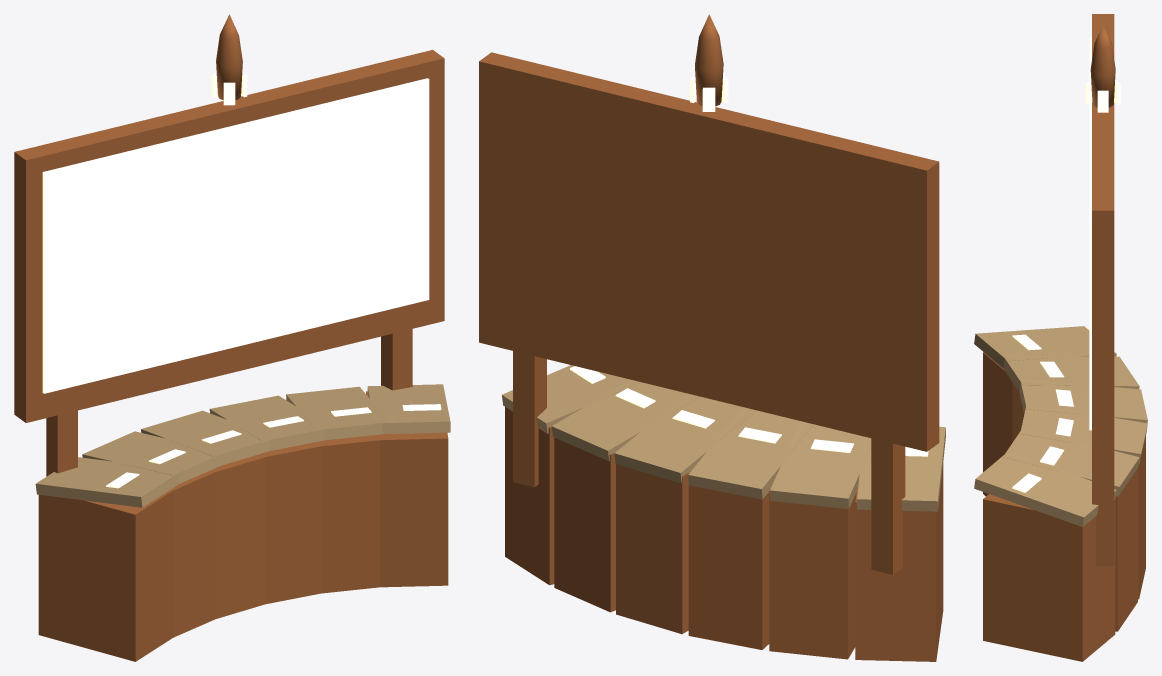
File: trajectory_console.glb
3 views of the same model, side by side, from view 1: azimuth 30°, elevation 25°; view 2: azimuth 150°, elevation 25°; view 3: azimuth 270°, elevation 25° (orthographic). The views are drawn at different scales.
Parts seen in each view (by area): view 1: trajectory_console metal, trajectory_console screen, trajectory_console stone, trajectory_console lamp; view 2: trajectory_console metal, trajectory_console stone, trajectory_console lamp; view 3: trajectory_console metal, trajectory_console stone, trajectory_console lamp, trajectory_console screen.
Part boxes in pixels (x1,y1,x2,y2): trajectory_console metal: (14, 14, 448, 661); trajectory_console screen: (42, 78, 429, 393); trajectory_console stone: (35, 384, 450, 507); trajectory_console lamp: (106, 72, 441, 488); trajectory_console metal: (479, 14, 943, 661); trajectory_console stone: (502, 365, 945, 511); trajectory_console lamp: (570, 76, 928, 456); trajectory_console metal: (983, 14, 1145, 661); trajectory_console stone: (974, 326, 1147, 526); trajectory_console lamp: (1012, 80, 1120, 492); trajectory_console screen: (1089, 37, 1091, 430).
Size of what is drawn, in the model's own units: 2.5 by 3.22 by 0.9346.
